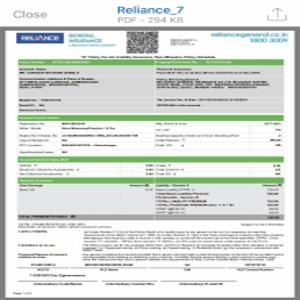image: (16, 33, 64, 45)
table: (18, 59, 285, 115), (18, 179, 286, 220), (15, 115, 284, 155), (18, 153, 285, 178)
text: (18, 221, 284, 262), (209, 31, 289, 44), (69, 32, 119, 48)
